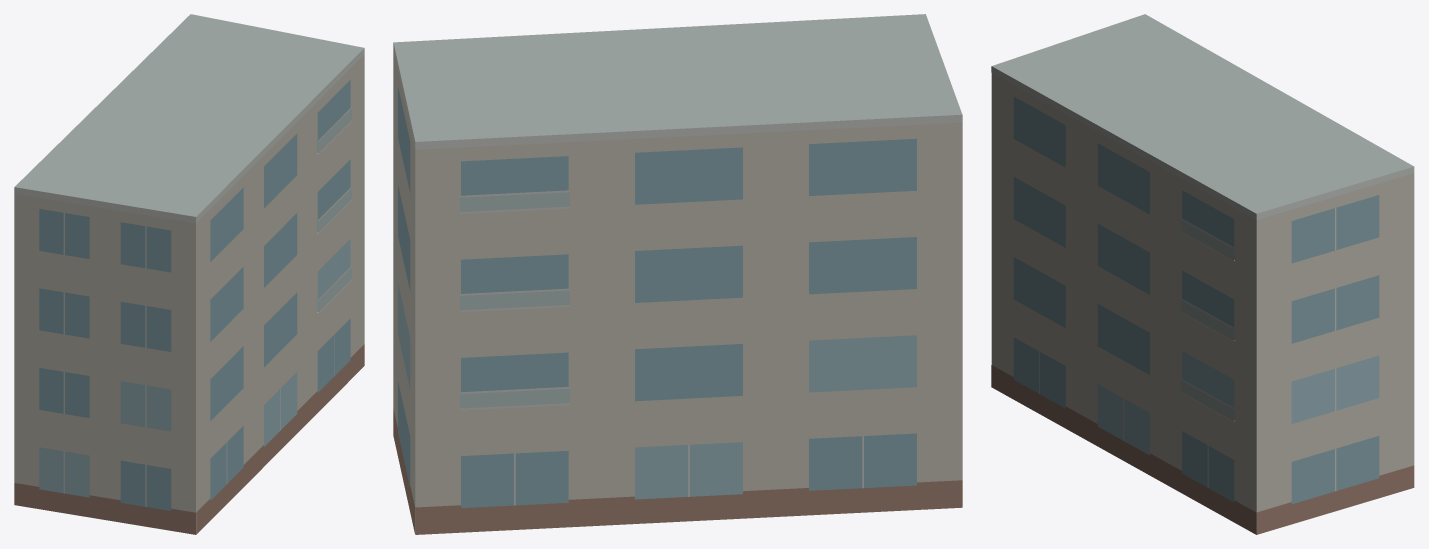
Rendered from survey-upis-32850642.glb.
3 views of the same model, side by side, from view 1: azimuth 30°, elevation 25°; view 2: azimuth 150°, elevation 25°; view 3: azimuth 270°, elevation 25° (orthographic). The views are drawn at different scales.
Visible parts, largest first — view 1: survey-upis-32850642.tmp; view 2: survey-upis-32850642.tmp; view 3: survey-upis-32850642.tmp.
Boxes of the visible parts, x1,y1,x2,y2 form: survey-upis-32850642.tmp: (14, 14, 364, 534); survey-upis-32850642.tmp: (393, 14, 962, 534); survey-upis-32850642.tmp: (991, 14, 1414, 534).
Bounding box in the file's own units: 16.28 × 12.2 × 14.57.
